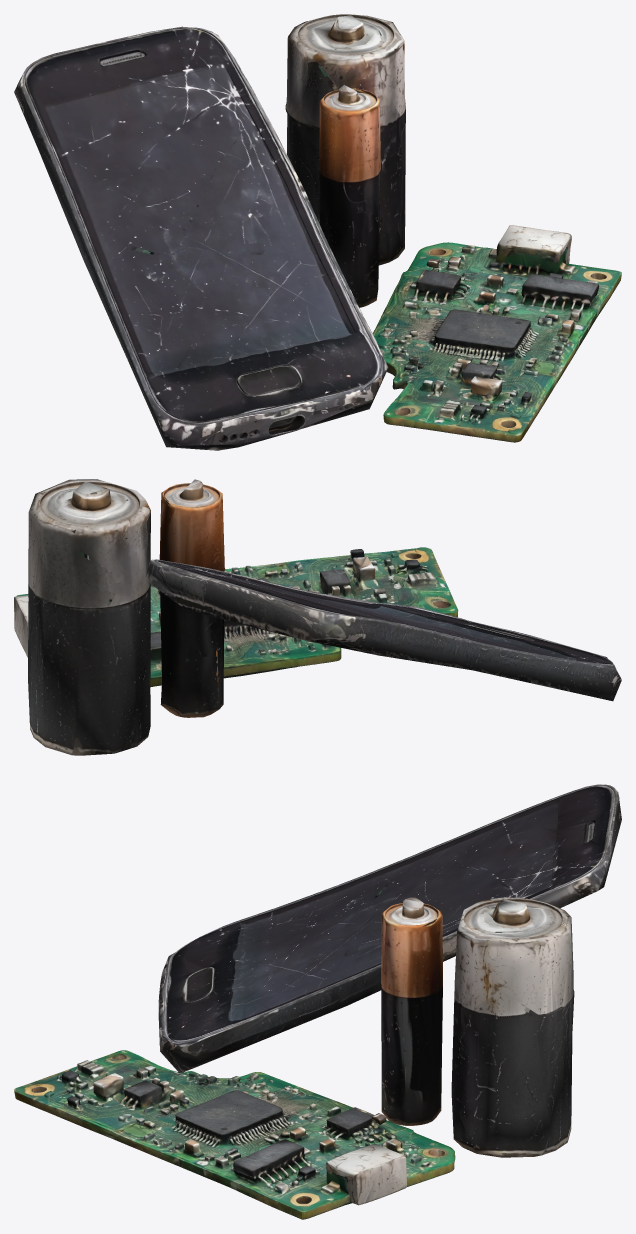
The model's file is electronicos.glb.
3 views of the same model, one above another, from view 1: azimuth 30°, elevation 25°; view 2: azimuth 150°, elevation 25°; view 3: azimuth 270°, elevation 25° (orthographic). The views are drawn at different scales.
Parts seen in each view (by area): view 1: model; view 2: model; view 3: model.
Part boxes in pixels (x1,y1,x2,y2): model: [14, 14, 621, 450]; model: [14, 479, 621, 755]; model: [14, 784, 621, 1219].
Bounding box in the file's own units: 0.2704 × 0.1198 × 0.2718.
Materials: 1 (1 with a texture image).
